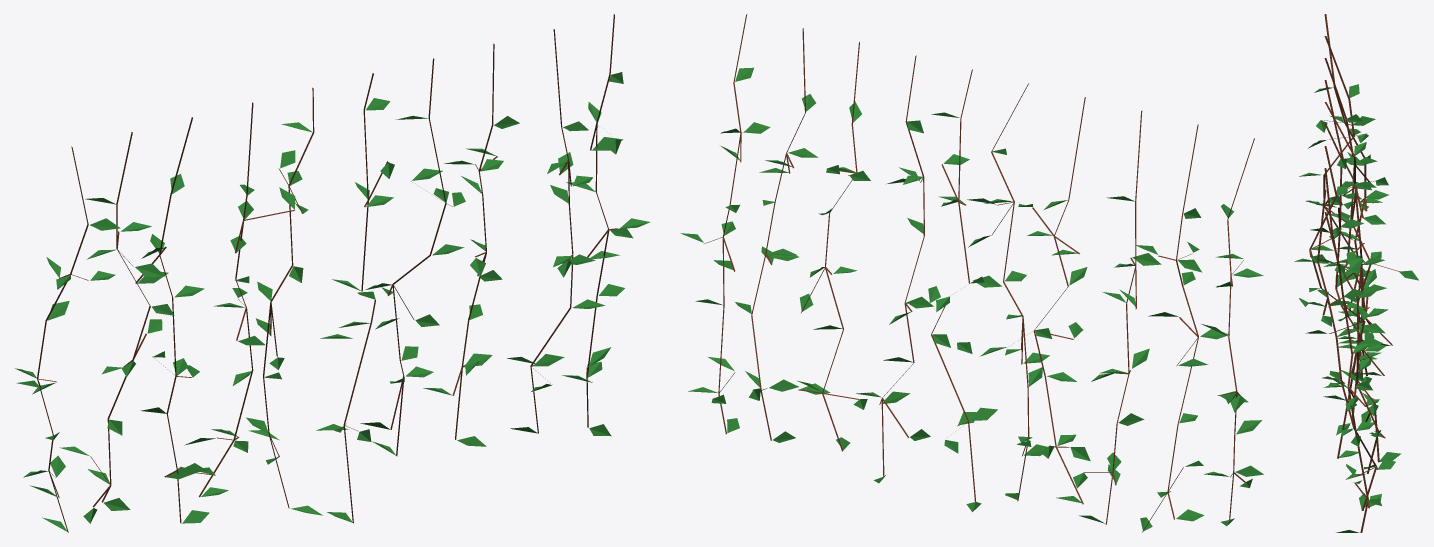
Rendered from Vines.glb.
3 renders of one model, left to right at view 1: azimuth 30°, elevation 25°; view 2: azimuth 150°, elevation 25°; view 3: azimuth 270°, elevation 25°, orthographic. The views are drawn at different scales.
Visible parts, largest first — view 1: VineLeaves, VineStems; view 2: VineLeaves, VineStems; view 3: VineLeaves, VineStems.
Boxes of the visible parts, x1,y1,x2,y2 form: VineLeaves: (15, 72, 650, 531); VineStems: (37, 14, 617, 532); VineLeaves: (680, 67, 1263, 530); VineStems: (704, 14, 1254, 532); VineLeaves: (1294, 84, 1418, 532); VineStems: (1309, 14, 1399, 532).
Size of the model in its own units: 2.08 by 1.44 by 0.4841.
